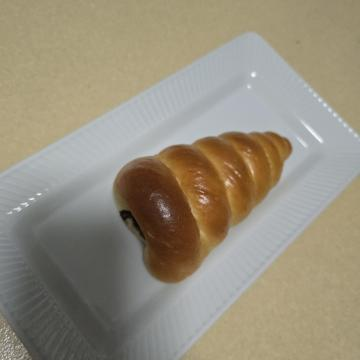cream horn: (99, 55, 310, 252)
